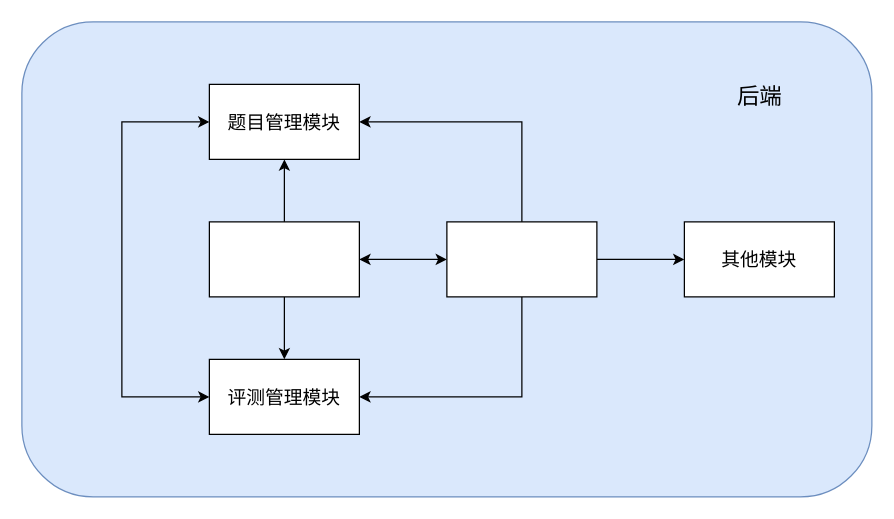
This 894x519 diagram has some shape labels left out. The shapes that lost their labels are listed below. From the top down, each one's centre as x and y in pixels, then its label:
(283,259): 用户管理模块
(521,259): 系统管理模块
